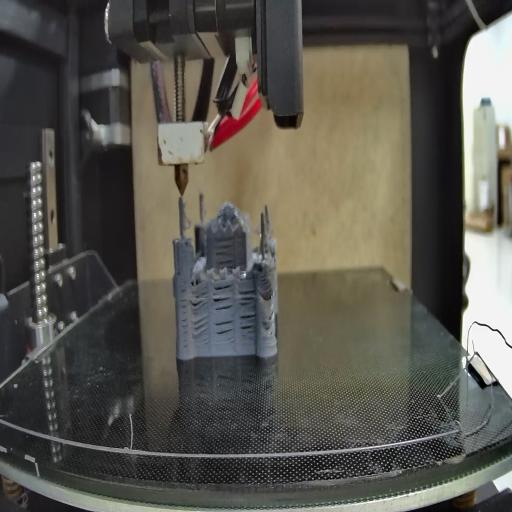cracks: (212, 232, 235, 264), (213, 278, 234, 310), (188, 284, 210, 311), (239, 311, 257, 341), (258, 272, 276, 302), (190, 315, 210, 341), (238, 282, 256, 309), (214, 316, 234, 339), (181, 287, 188, 349), (260, 309, 273, 331)
